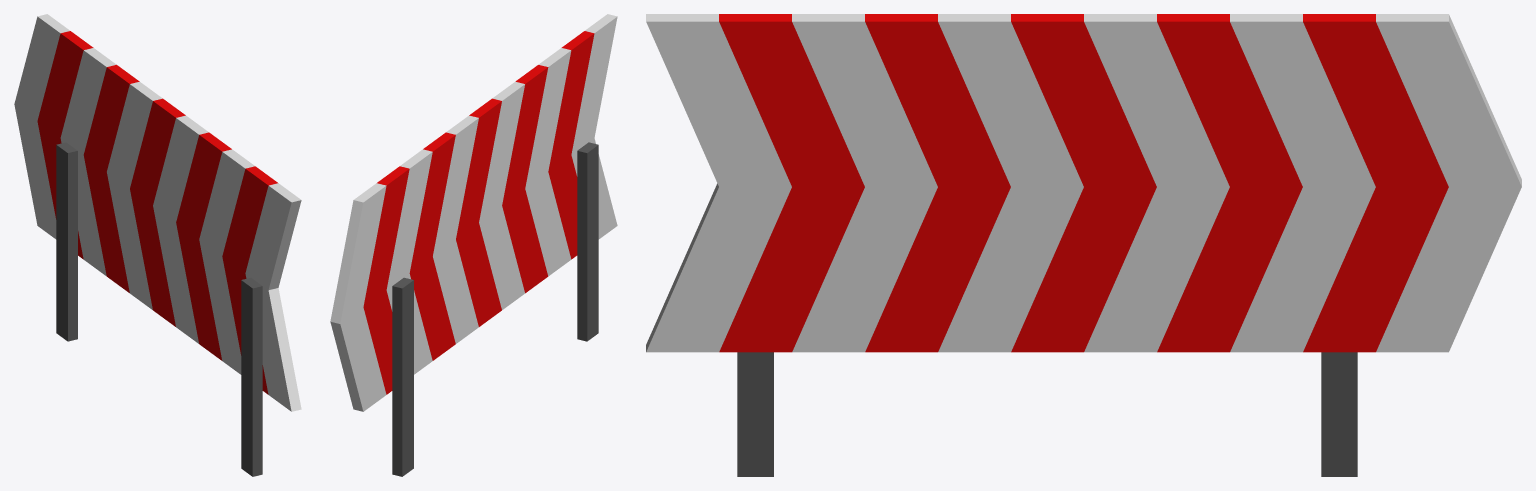
File: ETC0510022.fbx
The picture shows the model from 3 angles, left to right: view 1: azimuth 30°, elevation 25°; view 2: azimuth 150°, elevation 25°; view 3: azimuth 270°, elevation 25°; orthographic projection. The views are drawn at different scales.
Parts seen in each view (by area): view 1: smETC0510022; view 2: smETC0510022; view 3: smETC0510022.
Boxes of the visible parts, x1,y1,x2,y2 form: smETC0510022: (14,14,301,476); smETC0510022: (330,14,617,476); smETC0510022: (646,14,1521,476).
Bounding box in the file's own units: 12 × 168 × 288.
1 material, 1 textured.
